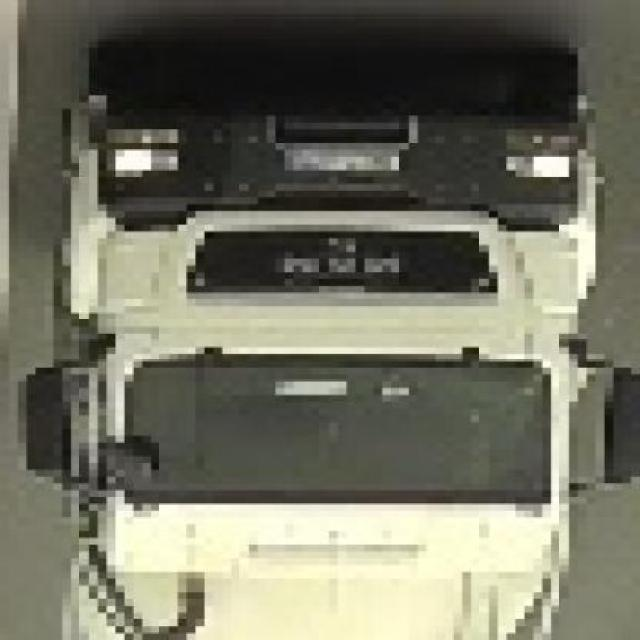truck: (27, 49, 640, 640)
